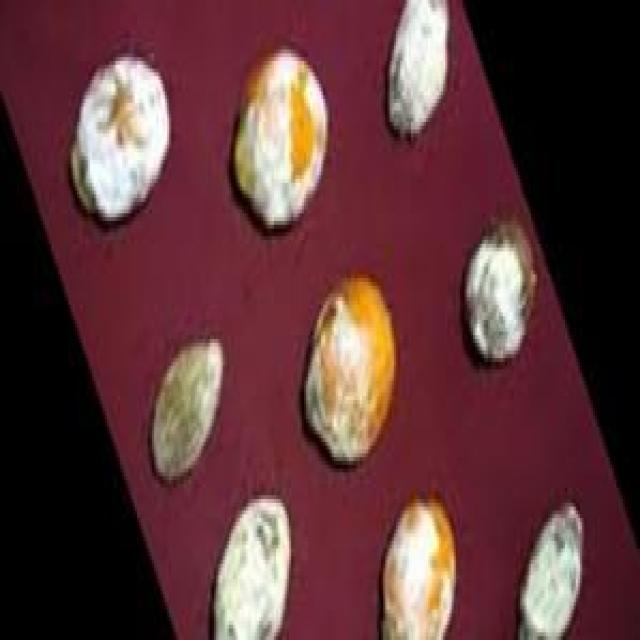damaged: (229, 42, 332, 240), (66, 46, 173, 232), (302, 274, 400, 472), (203, 491, 298, 636), (460, 217, 539, 370), (379, 495, 458, 636), (150, 343, 225, 488), (385, 0, 452, 145), (520, 503, 584, 636)
